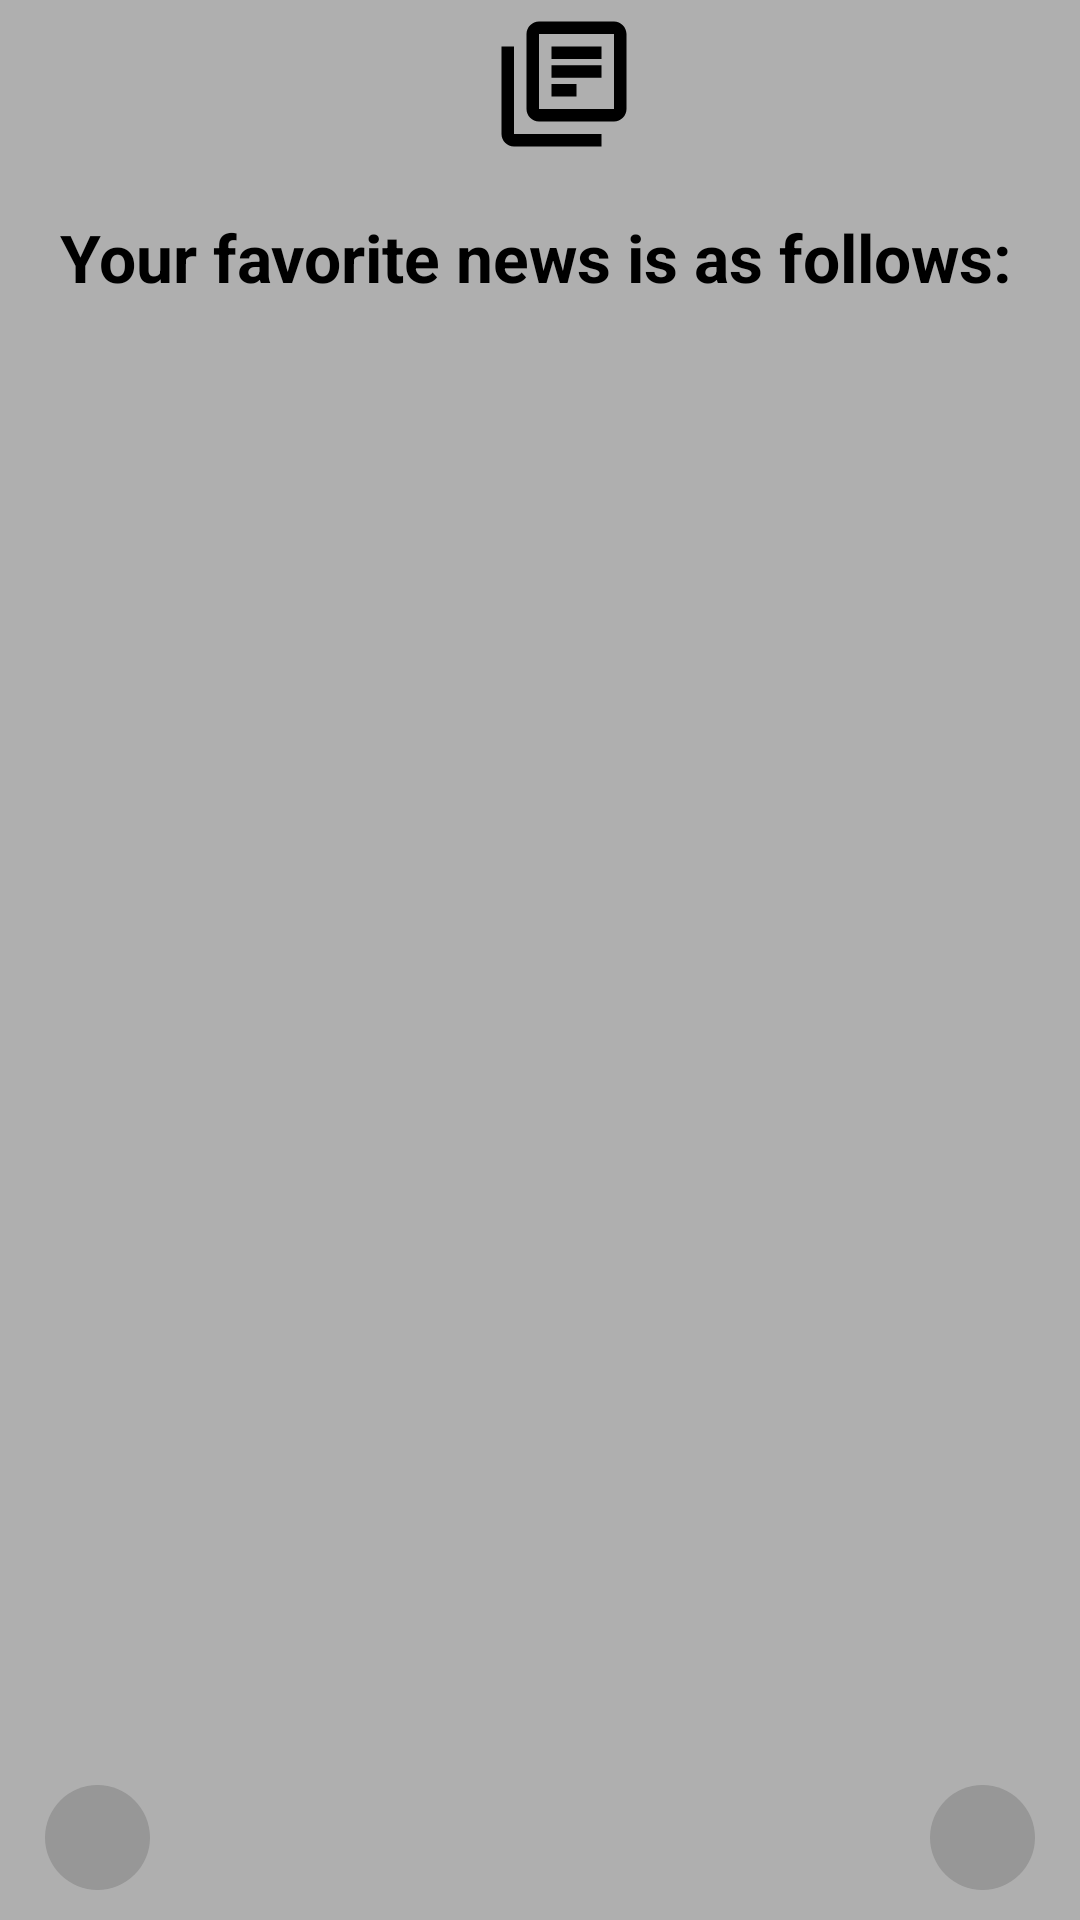

Icons on this 1080 x 1920 Android screen, each with its box as (x1, y1, x2, y2):
library books: (501, 21, 627, 147)
